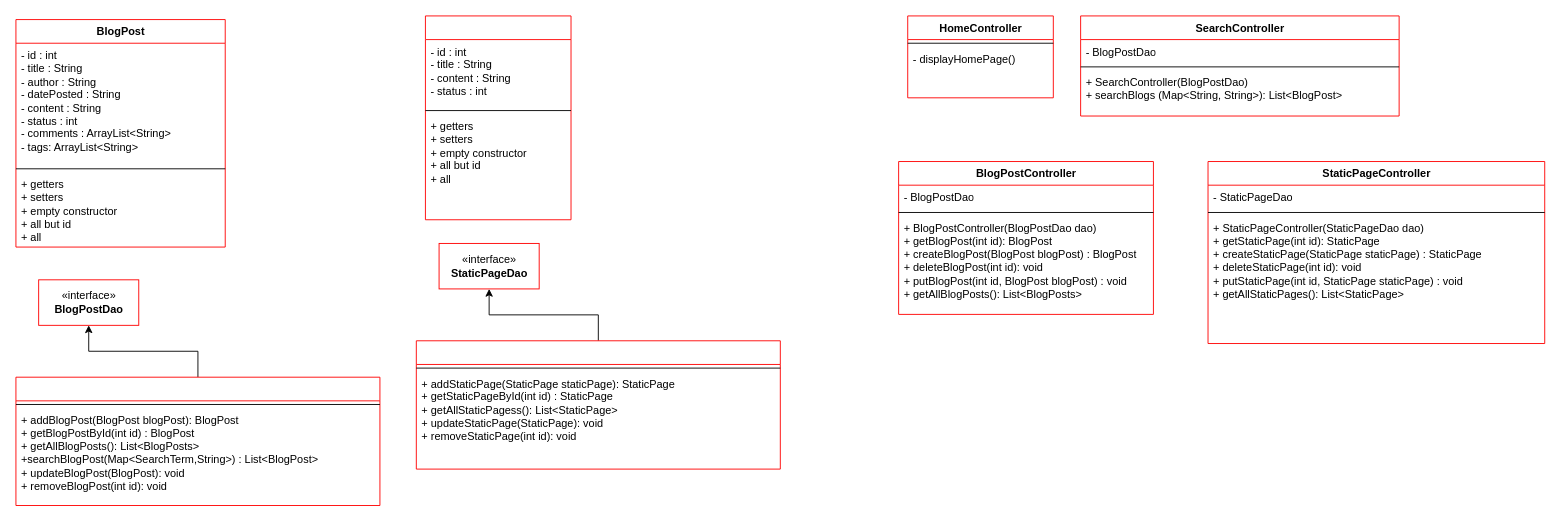
This 1561x521 diagram has some shape labels left out. Here are the shapes that lost their labels. From the top down, the box of each, then its label:
(425, 15, 571, 220): StaticPage
(415, 340, 780, 469): StaticPageDaoImpl
(15, 376, 380, 506): BlogPostDaoImpl
